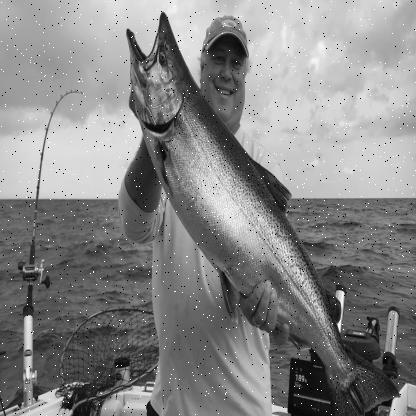fish: (125, 10, 400, 416)
